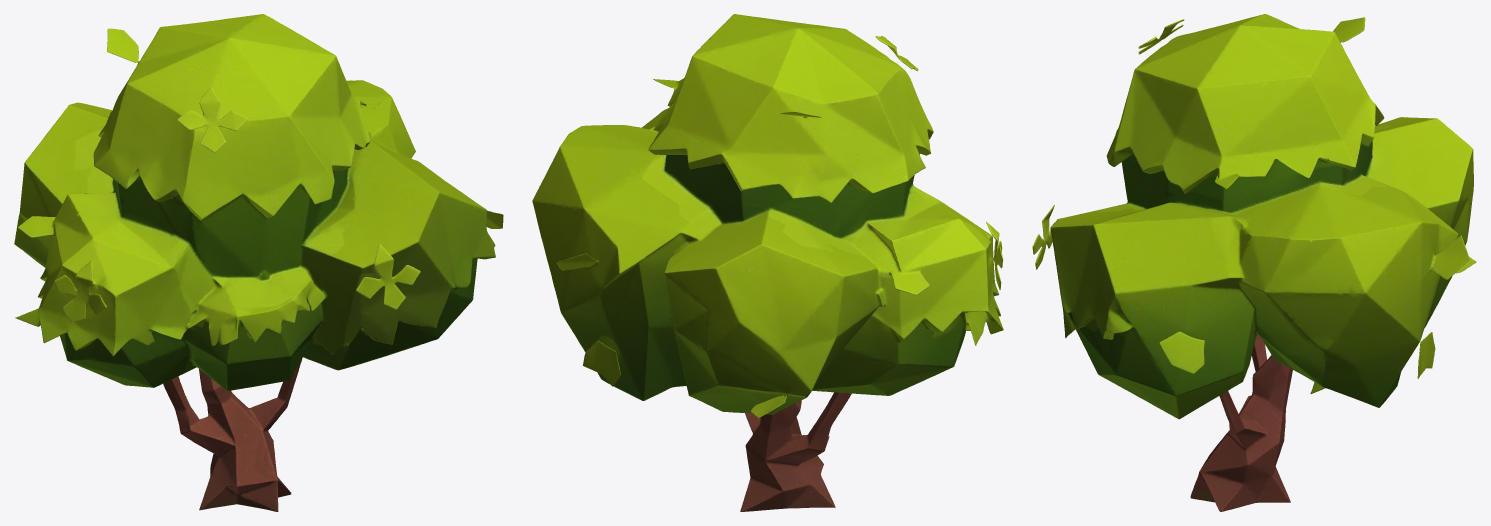
The model's file is tree2.glb.
3 renders of one model, left to right at view 1: azimuth 30°, elevation 25°; view 2: azimuth 150°, elevation 25°; view 3: azimuth 270°, elevation 25°, orthographic. The views are drawn at different scales.
Bounding box in the file's own units: 1.84 × 1.87 × 1.63.
Materials: 1 (1 with a texture image).
